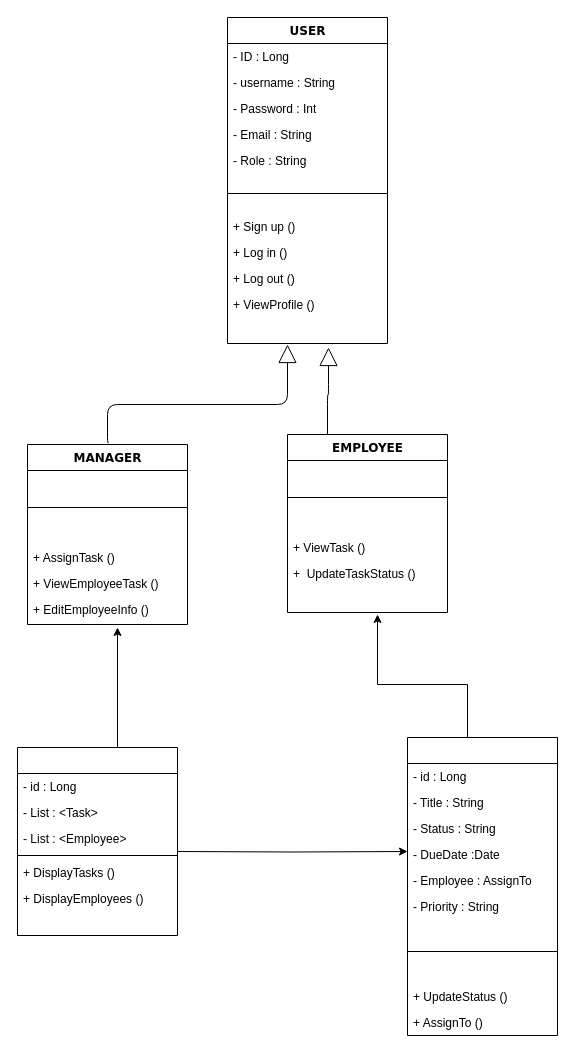
Image size: 575x1056. Some labels were removed from this diagram. The shapes that lost their labels are listed below. From the top down, each one's box as (x1, y1, x2, y2) in pixels, then its label:
(16, 746, 178, 936): DASHBOARD
(406, 736, 558, 1036): TASK
